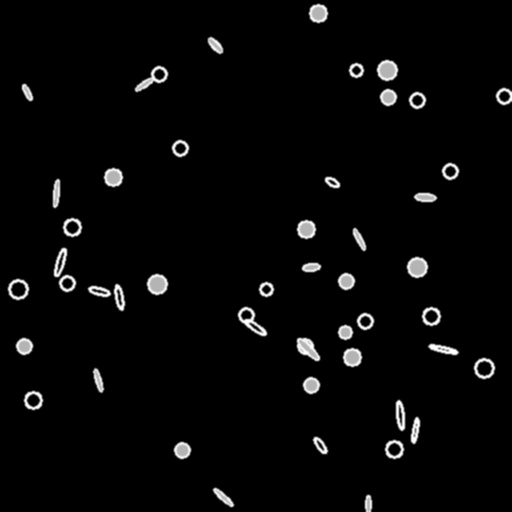pseudomonas: (295, 336, 321, 362), (243, 317, 267, 337), (212, 487, 234, 507), (53, 247, 67, 277), (429, 343, 457, 355), (206, 36, 224, 54), (134, 76, 154, 92), (312, 435, 328, 455), (352, 228, 366, 250), (113, 285, 125, 309), (395, 401, 405, 429), (88, 285, 110, 297), (52, 179, 60, 207), (93, 369, 103, 391), (324, 176, 340, 188), (411, 418, 419, 442), (21, 84, 33, 100), (414, 193, 436, 201), (303, 263, 319, 271), (365, 496, 371, 512)
synechocystis: (378, 61, 396, 79), (408, 258, 426, 276), (9, 280, 27, 298), (475, 359, 493, 377), (148, 275, 166, 293), (298, 221, 314, 237), (310, 5, 326, 21), (64, 219, 80, 235), (386, 441, 402, 457), (423, 308, 439, 324), (25, 392, 41, 408), (344, 349, 360, 365), (105, 169, 121, 185), (339, 274, 353, 288), (152, 67, 166, 81), (60, 276, 74, 290), (497, 89, 511, 103), (381, 90, 395, 104), (17, 339, 31, 353), (239, 308, 253, 322), (304, 378, 318, 392), (173, 141, 187, 155), (175, 443, 189, 457), (410, 93, 424, 107), (443, 164, 457, 178), (358, 314, 372, 328), (298, 339, 312, 353), (350, 64, 362, 76), (339, 326, 351, 338), (260, 283, 272, 295)
